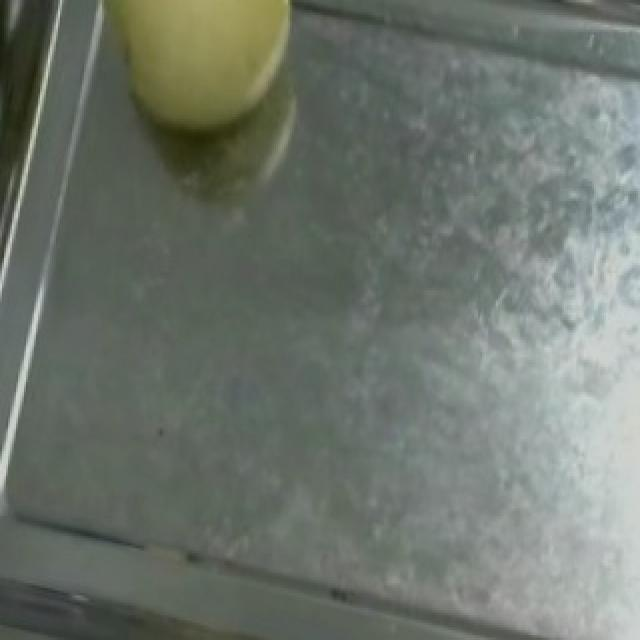Fruit: (78, 0, 326, 161)
